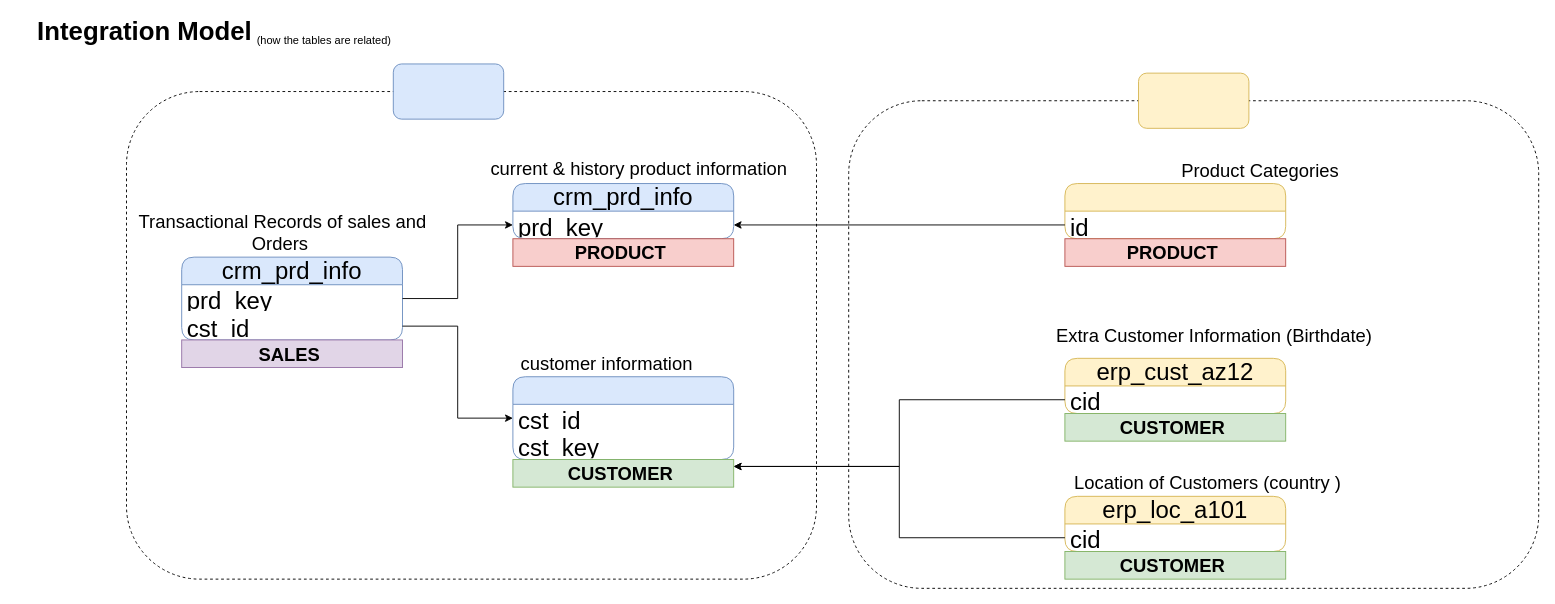
Some shapes in this 1555 by 604 pixel diagram are drawn without their labels. Each missing label, with the box of its shape:
CRM: (392, 63, 504, 119)
crm_cust_info: (512, 376, 734, 460)
ERP: (1138, 72, 1249, 128)
erp_px_cat_g1v2: (1064, 183, 1286, 239)
